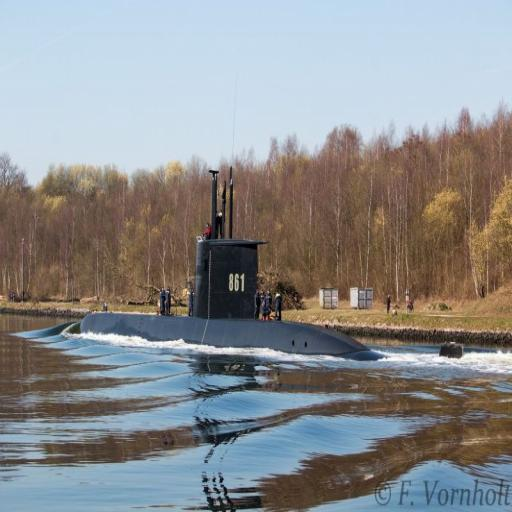submarine: (81, 165, 388, 361)
